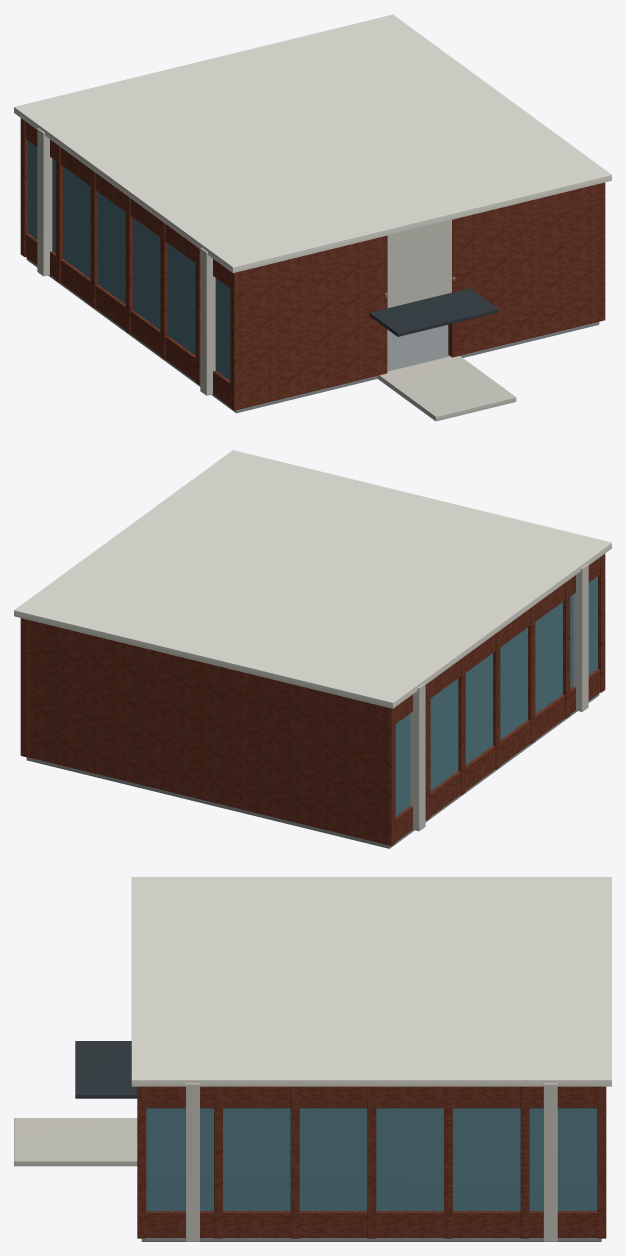
File: SM_LegacyTower_Classroom.fbx
The picture shows the model from 3 angles, top to bottom: view 1: azimuth 30°, elevation 25°; view 2: azimuth 150°, elevation 25°; view 3: azimuth 270°, elevation 25°; orthographic projection. The views are drawn at different scales.
Visible parts, largest first — view 1: SM_LegacyTower_Classroom; view 2: SM_LegacyTower_Classroom; view 3: SM_LegacyTower_Classroom.
Boxes of the visible parts, box(x1,y1,x2,y2) form: SM_LegacyTower_Classroom: box(14, 14, 611, 421); SM_LegacyTower_Classroom: box(14, 450, 611, 848); SM_LegacyTower_Classroom: box(14, 877, 611, 1241).
Size of what is drawn, in the model's own units: 1895 by 2340 by 719.
